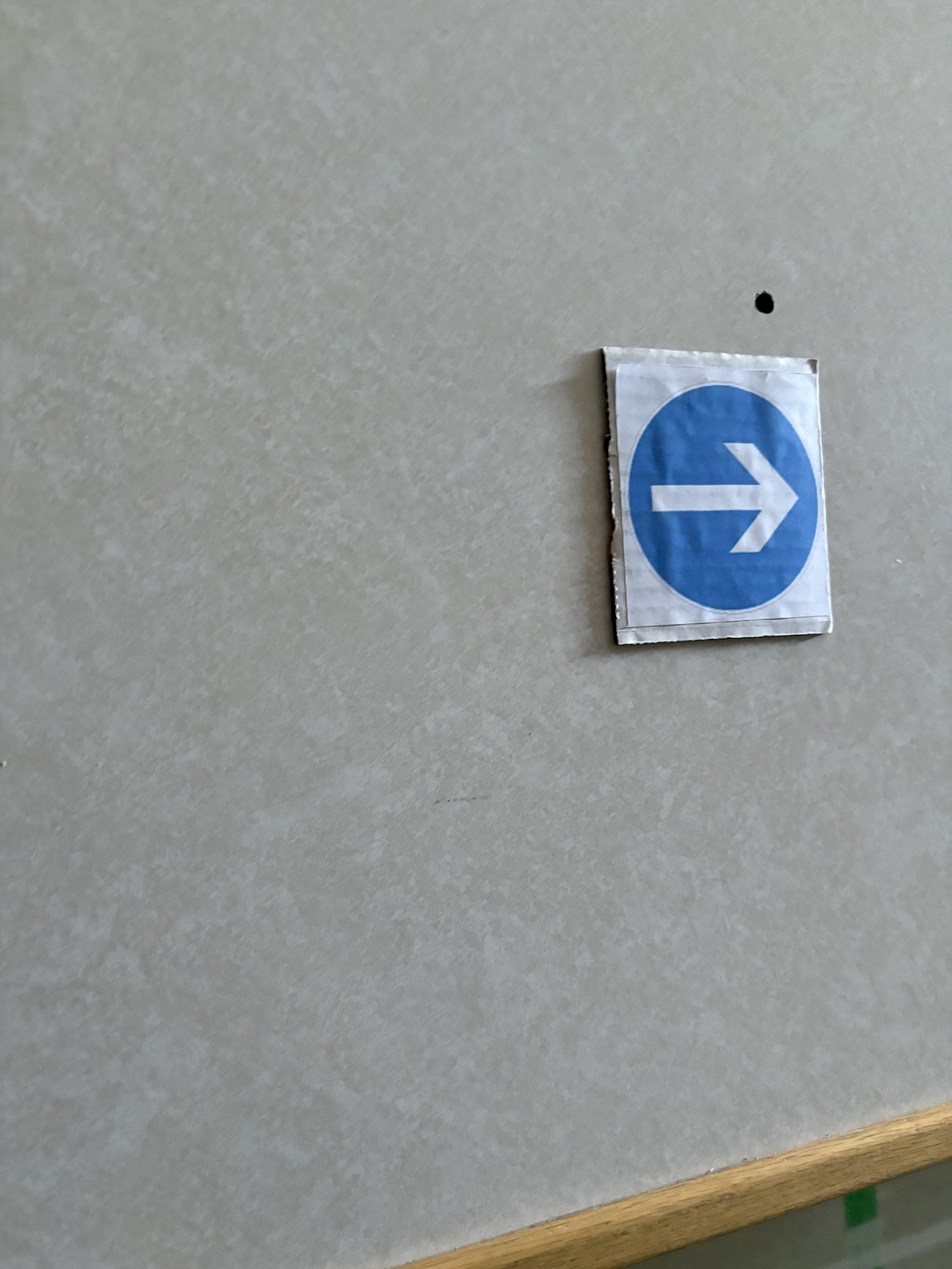Proceed Right: (600, 351, 841, 657)
